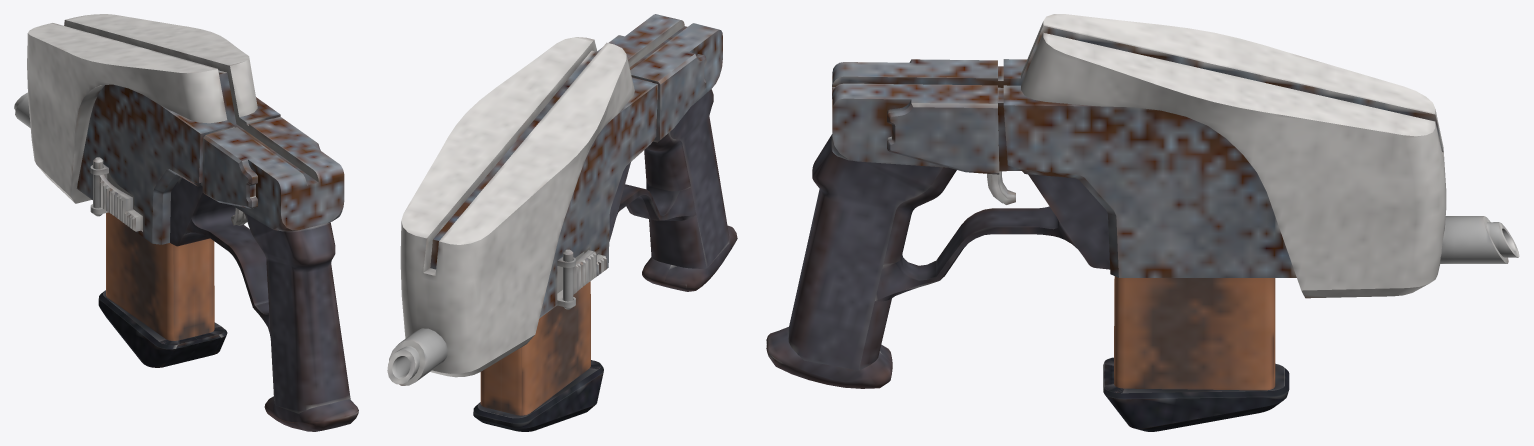
The model's file is w_weapon_autorifle.fbx.
3 renders of one model, left to right at view 1: azimuth 30°, elevation 25°; view 2: azimuth 150°, elevation 25°; view 3: azimuth 270°, elevation 25°, orthographic. The views are drawn at different scales.
Visible parts, largest first — view 1: auto_body, Auto_Magazine; view 2: auto_body, Auto_Magazine; view 3: auto_body, Auto_Magazine.
Part boxes in pixels (x1,y1,x2,y2): auto_body: (14, 14, 358, 431); Auto_Magazine: (98, 212, 227, 367); auto_body: (387, 14, 737, 385); Auto_Magazine: (473, 281, 603, 431); auto_body: (766, 14, 1519, 388); Auto_Magazine: (1103, 276, 1289, 431).
Size of the model in its own units: 5.49 by 25.09 by 14.16.
